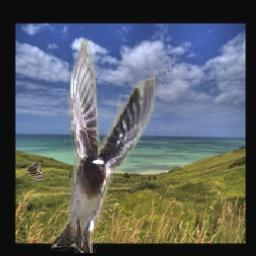Sparrow: (21, 162, 43, 180)
Swallow: (52, 40, 156, 254)
